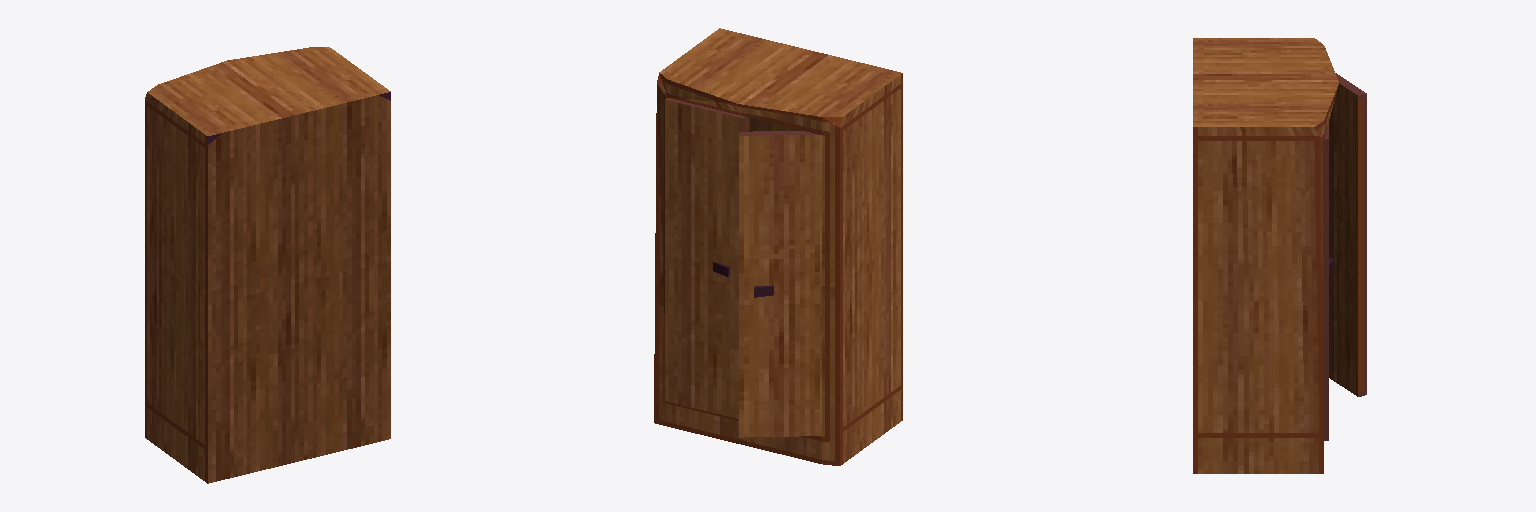
3 views of the same model, side by side, from view 1: azimuth 30°, elevation 25°; view 2: azimuth 150°, elevation 25°; view 3: azimuth 270°, elevation 25° (orthographic).
Parts seen in each view (by area): view 1: cuboid; view 2: cuboid; view 3: cuboid.
Part boxes in pixels (x1,y1,x2,y2): cuboid: (145,47,390,483); cuboid: (654,28,902,465); cuboid: (1193,38,1366,473).
Bounding box in the file's own units: 2.62 × 4.75 × 2.15.
1 materials, 1 textured.